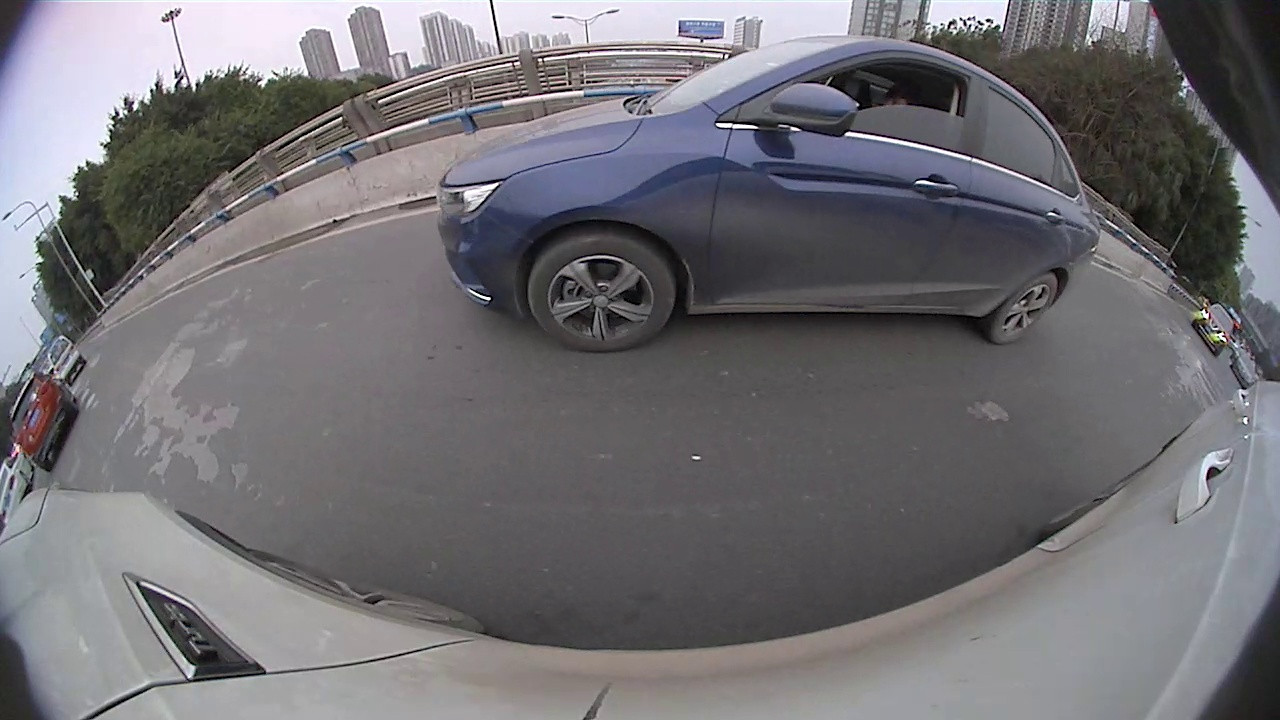bus: (781, 93, 1128, 259)
car: (1020, 230, 1279, 474), (799, 137, 1003, 253), (470, 153, 577, 217), (712, 159, 776, 197)
front: (1055, 308, 1181, 446), (800, 182, 821, 216)
rear: (871, 196, 910, 244), (539, 183, 554, 212), (725, 176, 732, 192)
truck: (601, 47, 710, 195)
